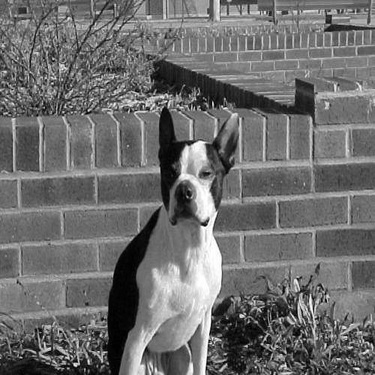dog: (85, 100, 242, 372)
